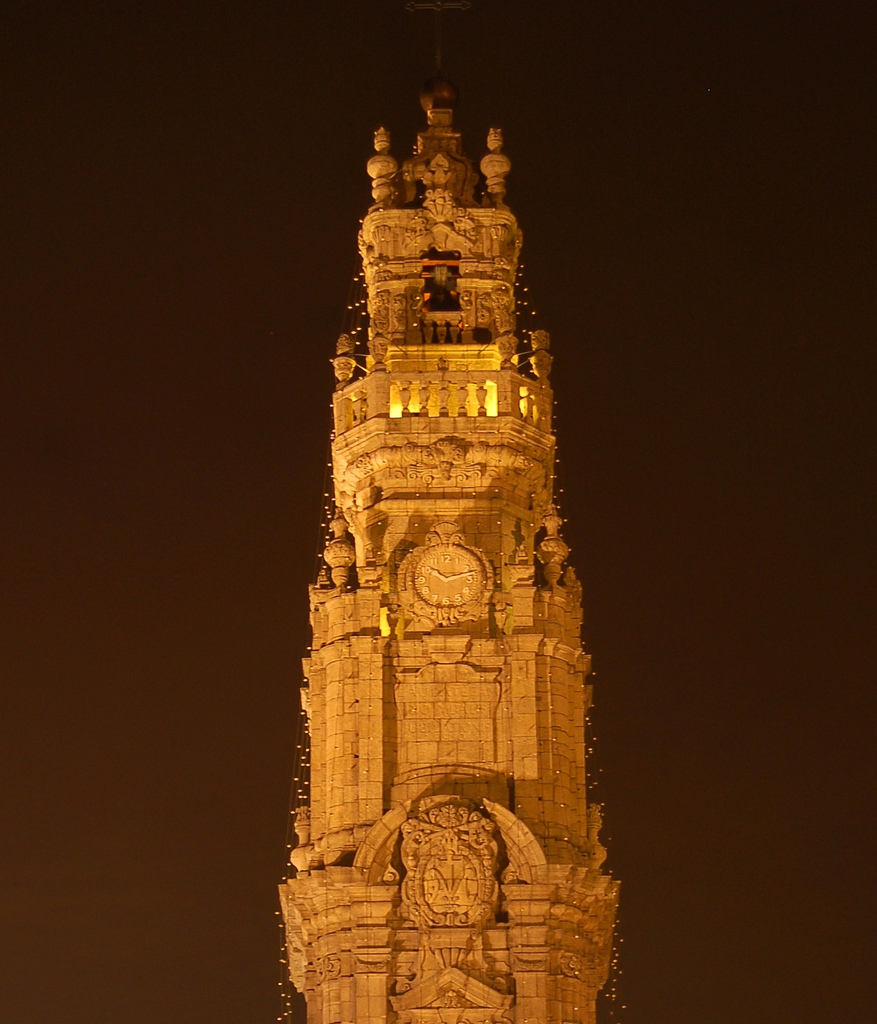clerigos: (270, 0, 626, 1023)
